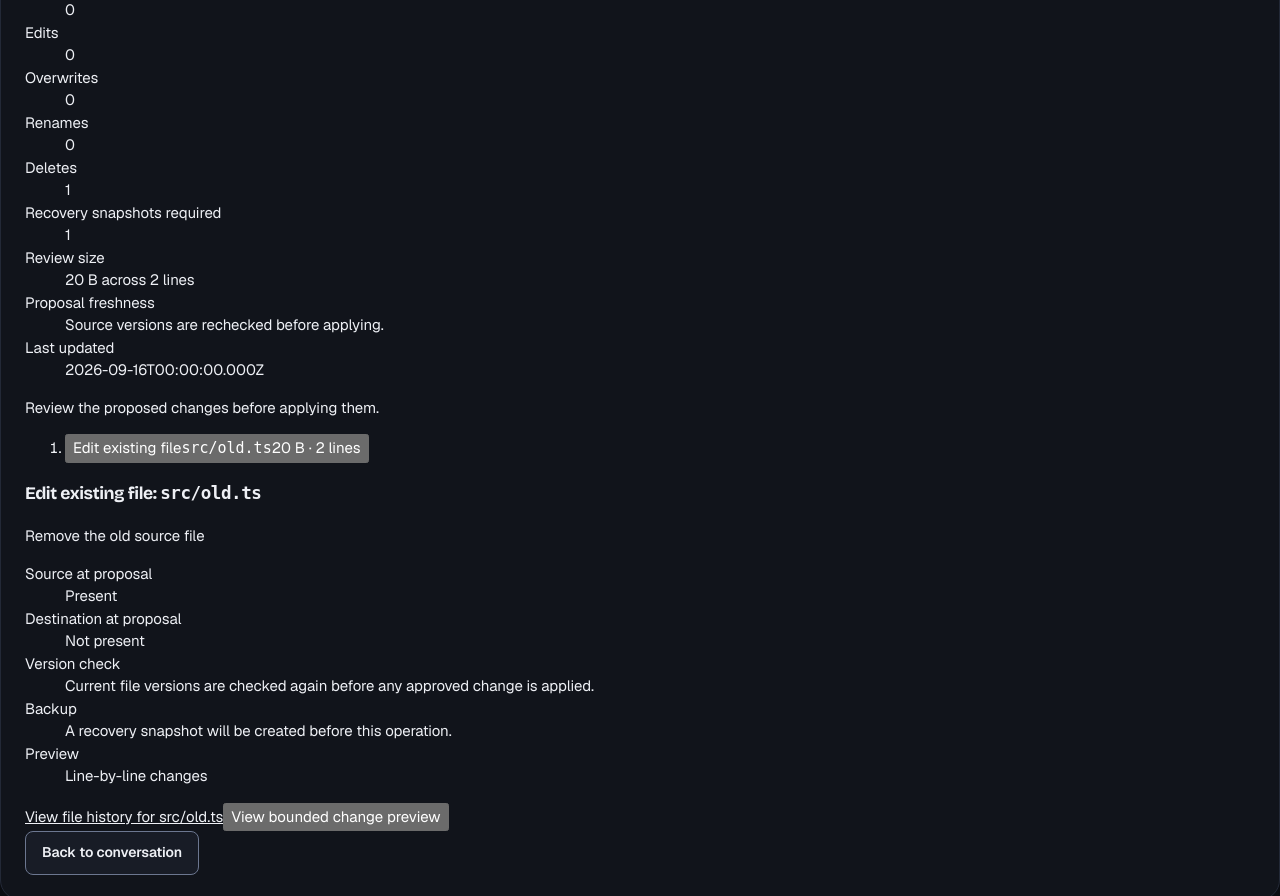
Test: ProposedChangeReview › renders line-diff labels and provides path history links
This screenshot has width=1280, height=896.
(page scrolled)
Click the button with test id "change-diff-toggle" at (336, 817), box 223,802 -> 449,831
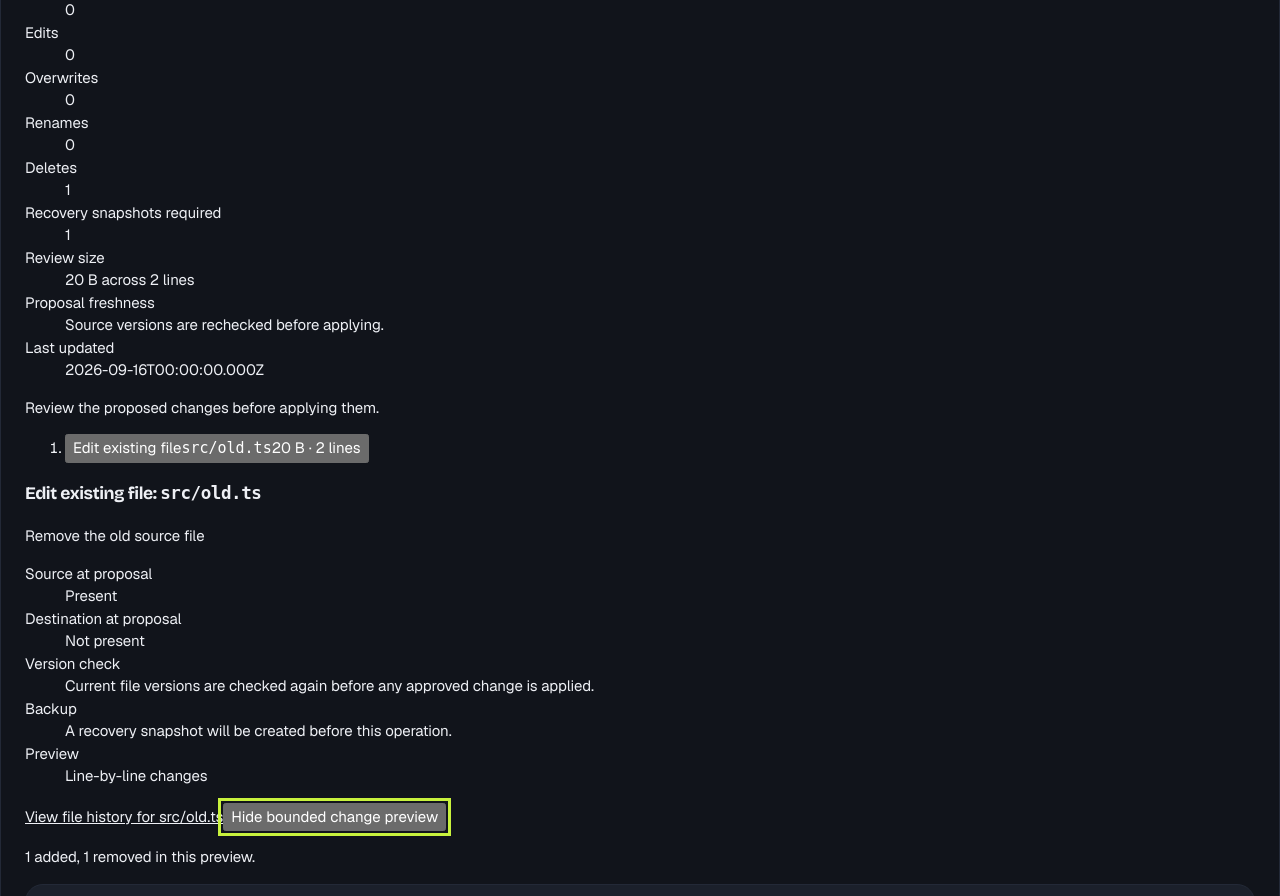
Expected: the text with test id "change-diff-counts" shows "1 added, 1 removed", 25,847 -> 255,866
